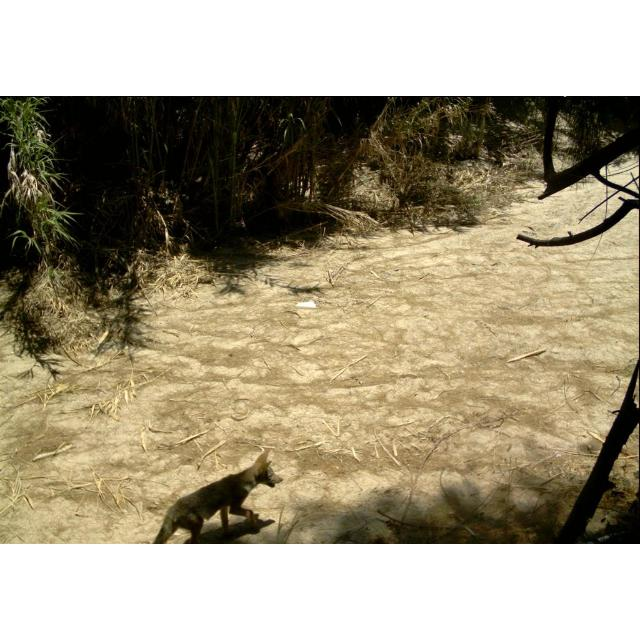animals: (148, 450, 282, 544)
